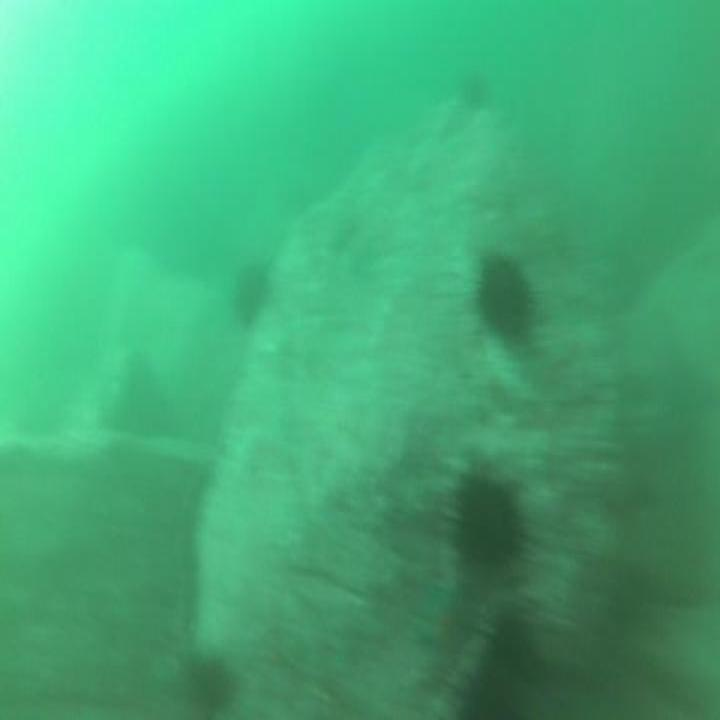echinus: (448, 459, 524, 585), (474, 245, 538, 345), (442, 652, 531, 720), (476, 606, 538, 684), (181, 640, 238, 720), (231, 254, 276, 334), (457, 66, 489, 119)
